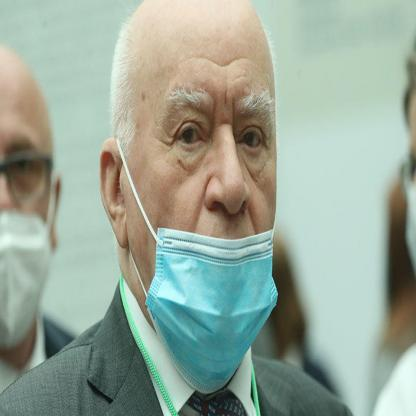mask_weared_incorrect: (97, 0, 284, 399)
